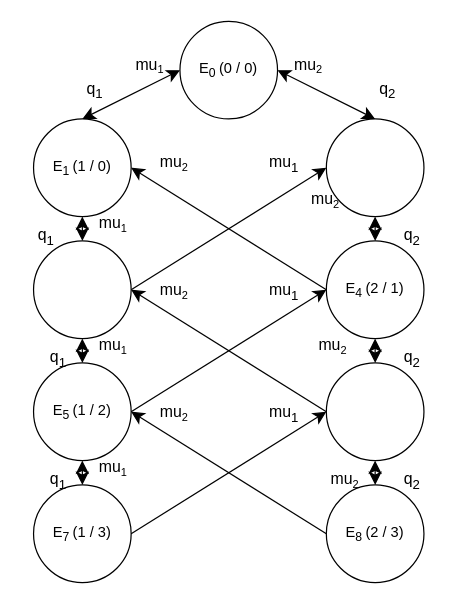
Some shapes in this 456 by 604 pixel diagram are drawn without their labels. Here are the shapes that lost their labels. From the top down, the centre of each, then its label:
At point (374, 167): "E 2 (2 / 0)".
At point (81, 289): "E 3 (1 / 1)".
At point (374, 411): "E 6 (2 / 2)".
